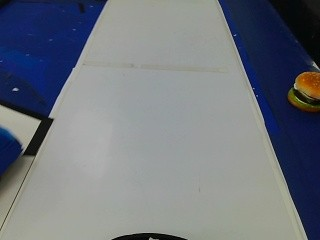burger: (286, 66, 318, 115)
